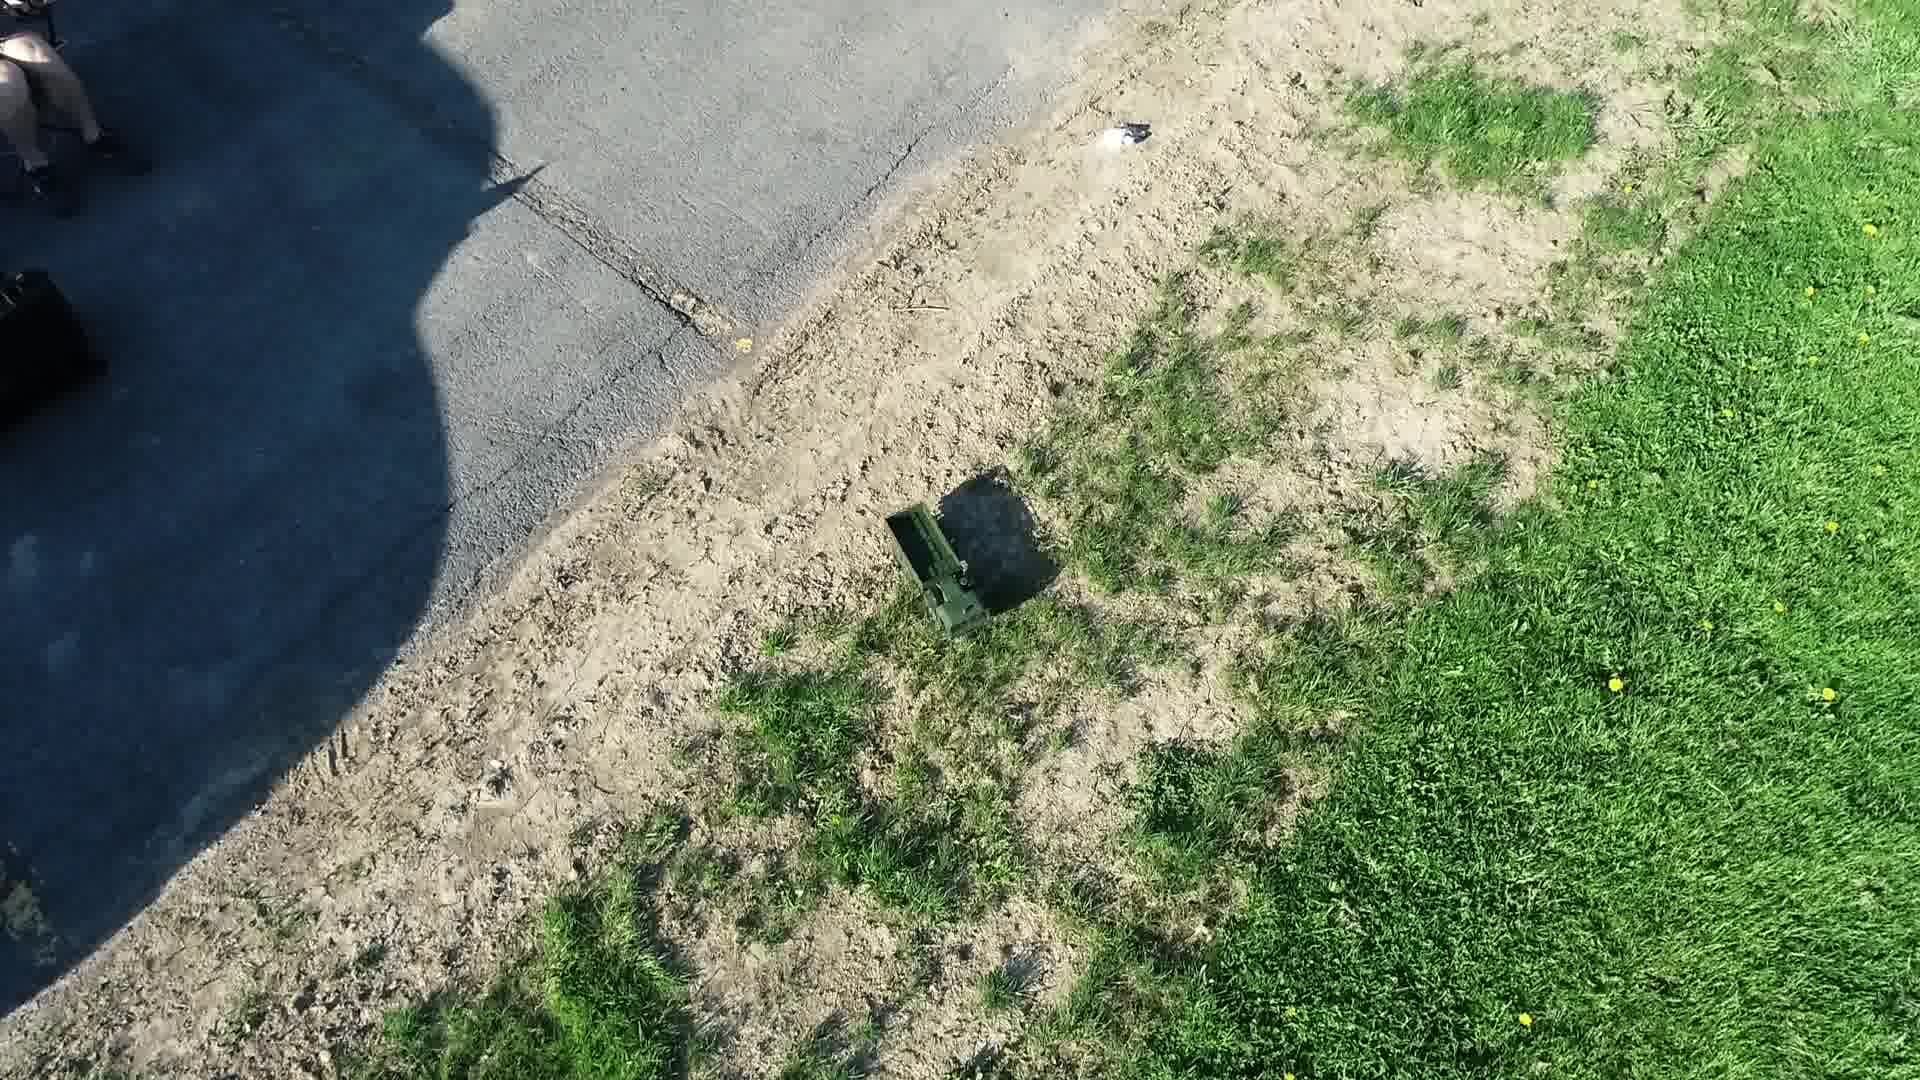transporter9: (872, 493, 1001, 650)
